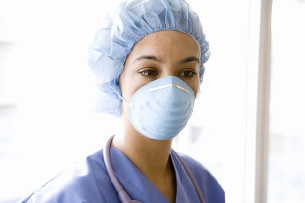Mask: (116, 46, 213, 143)
